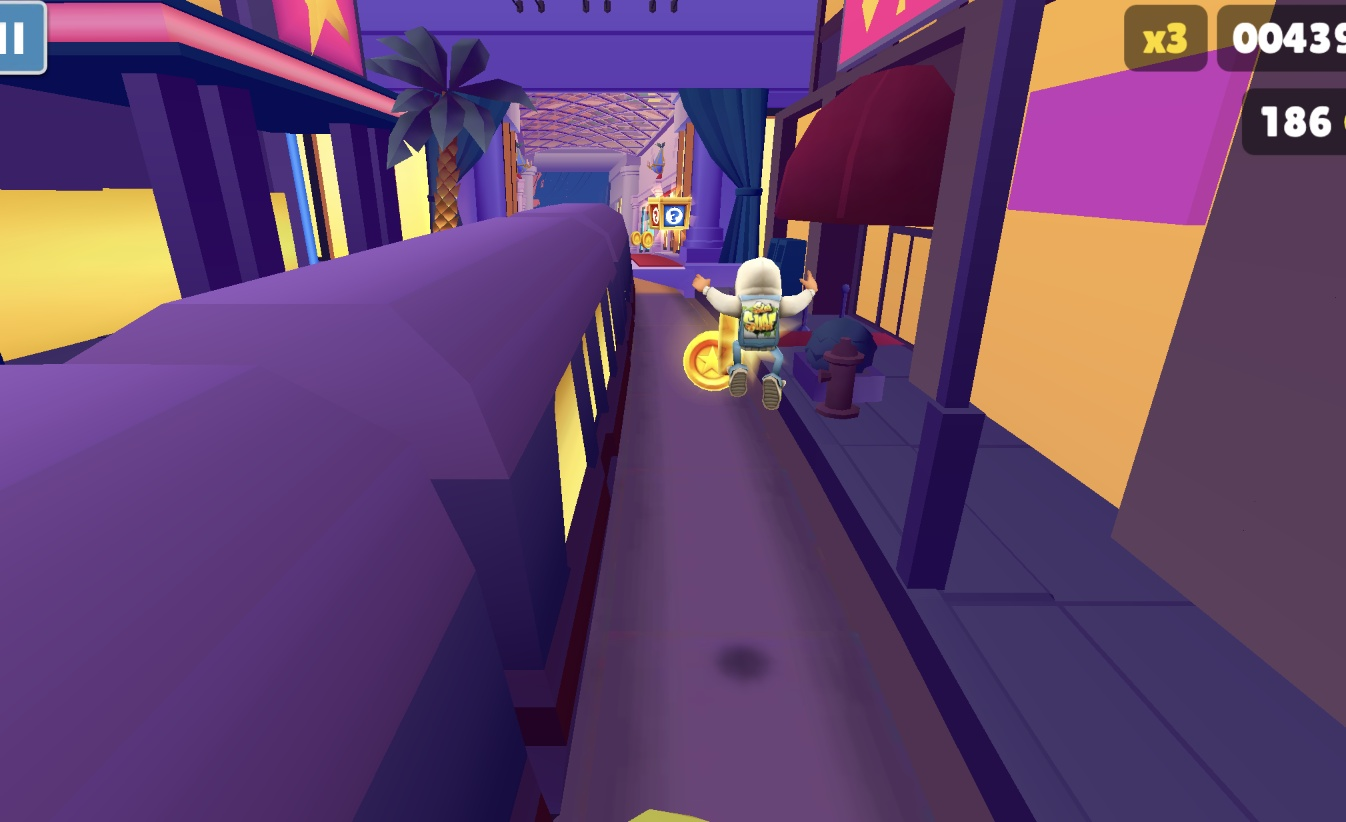bush: (627, 809, 710, 822)
train: (0, 201, 637, 822)
